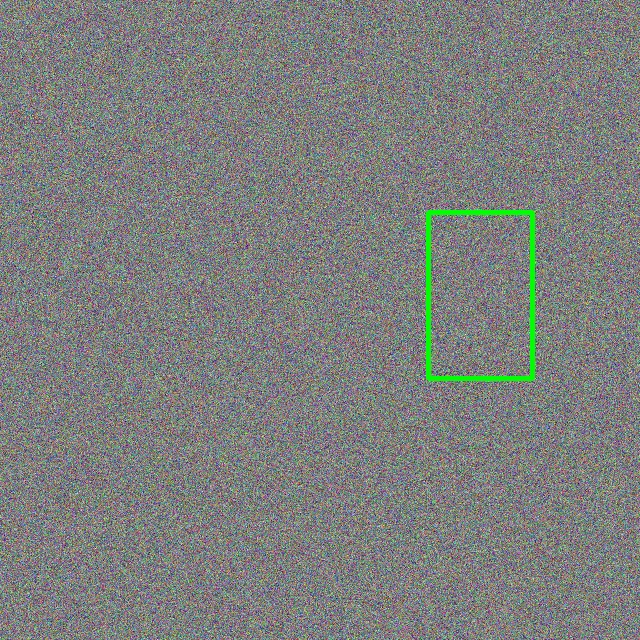base: (428, 212, 532, 378)
